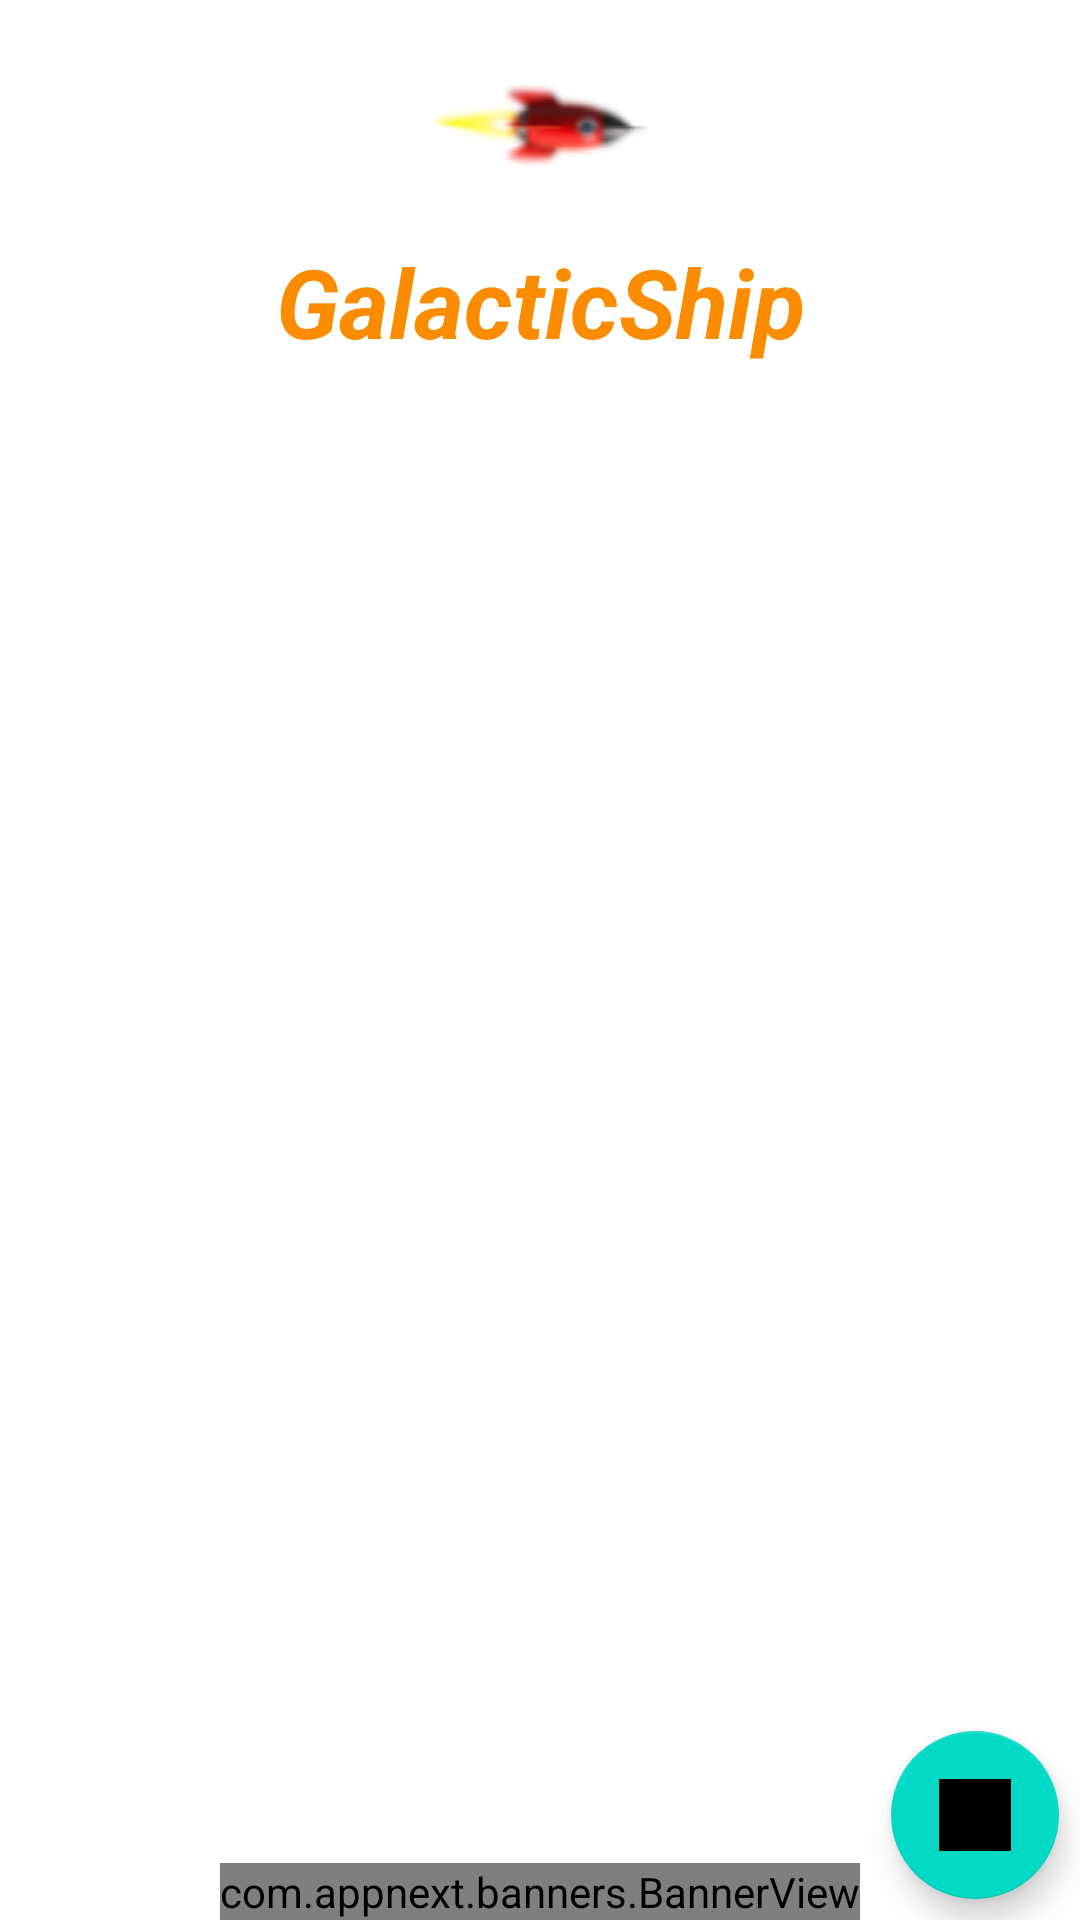

Point at icon controls on the screen. Image size 1080*1920, points as [x,y].
nave: [539,125]
